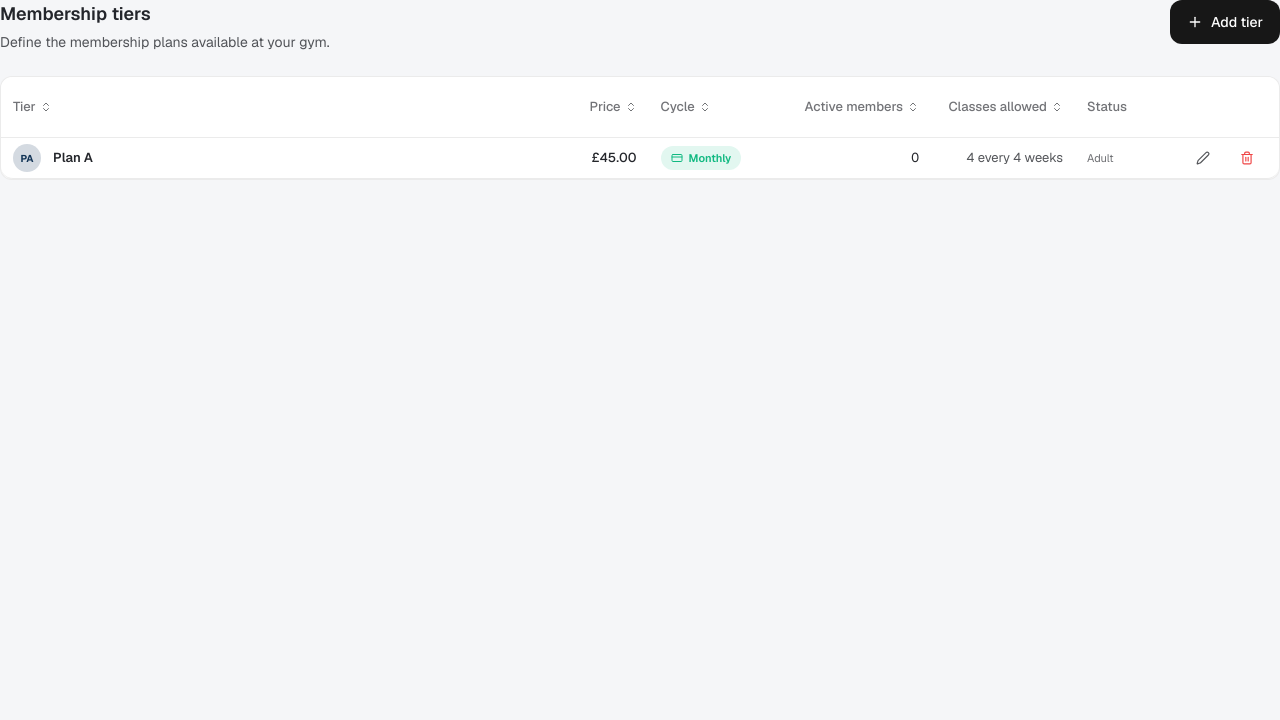
Scenario: the class allowance in the tier editor › the summary under the fields shows the period dates before saving
Click the button named "Edit Plan A": (1203, 158) [1183, 142, 1223, 174]
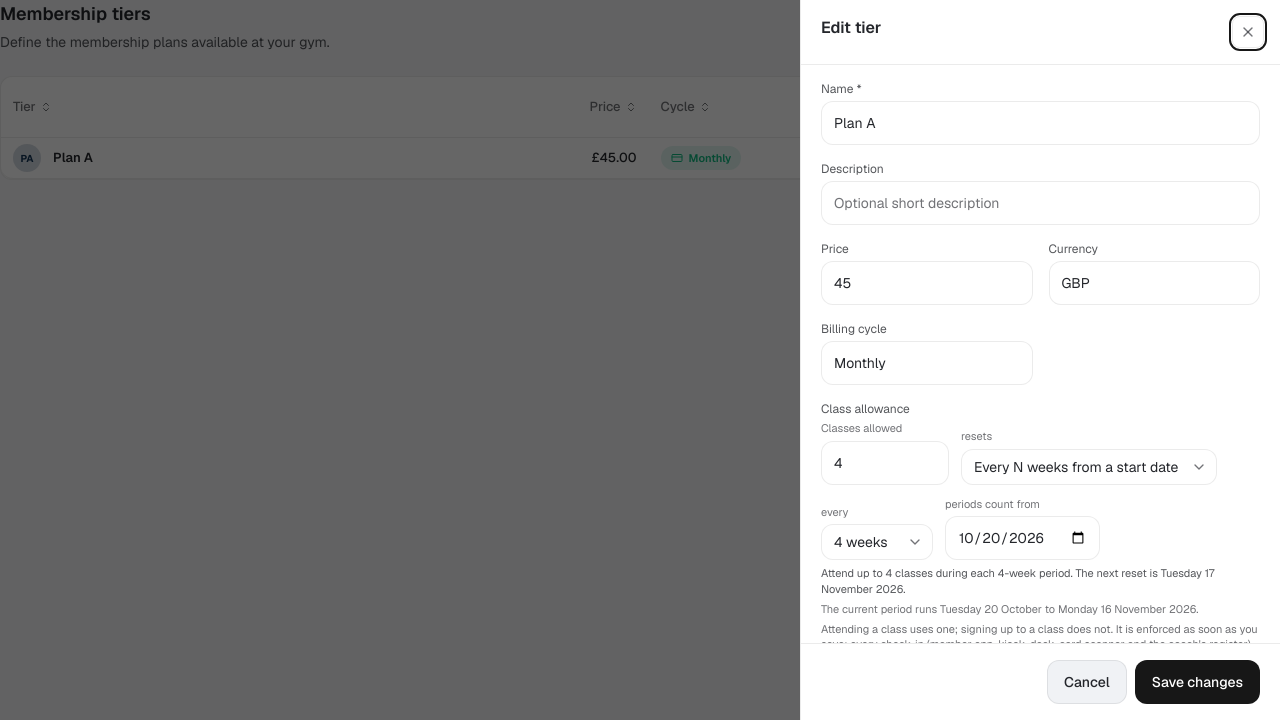
Check: the text with test id "tier-allowance-summary" shows "Attend up to 4 classes during each 4-week period. The next reset is", box [821, 566, 1214, 596]
Check: the text with test id "tier-allowance-period" shows "The current period runs", box [821, 602, 1199, 616]
Select "Each calendar month" in the dropdown labelled "resets": (1089, 467) [961, 449, 1217, 485]
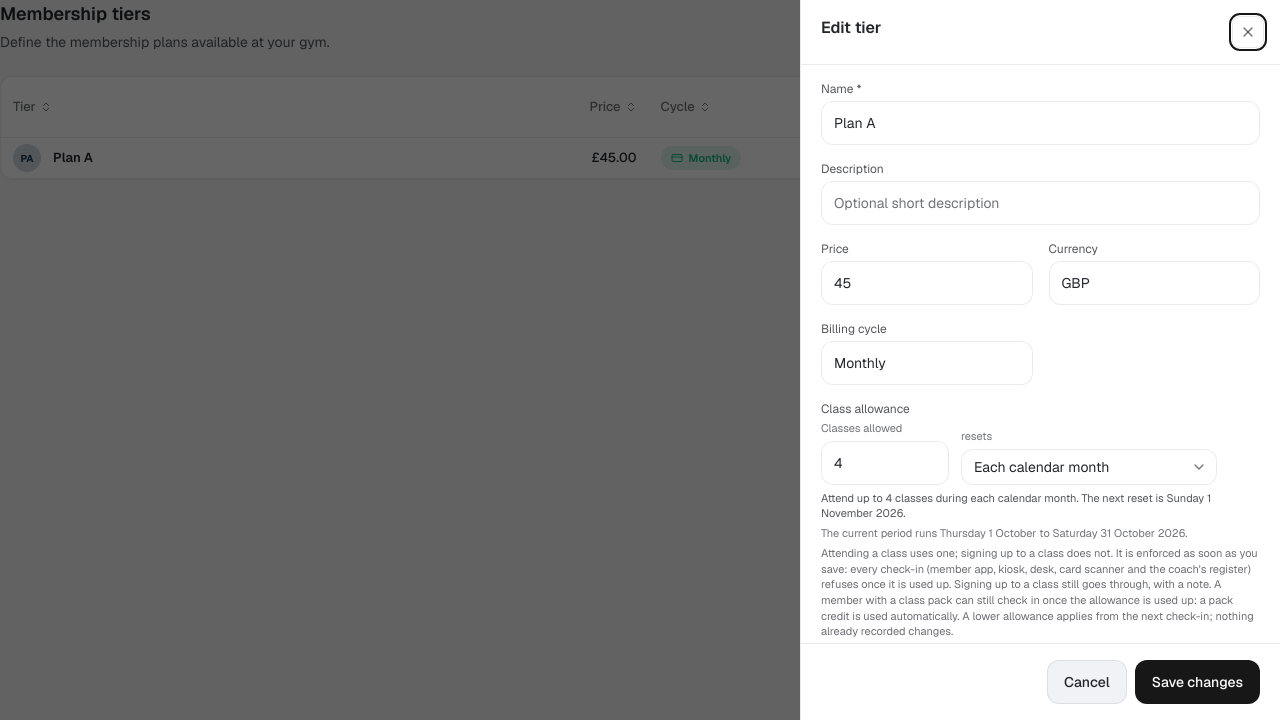
Check: the text with test id "tier-allowance-summary" shows "Attend up to 4 classes during each calendar month.", box [821, 491, 1211, 520]
